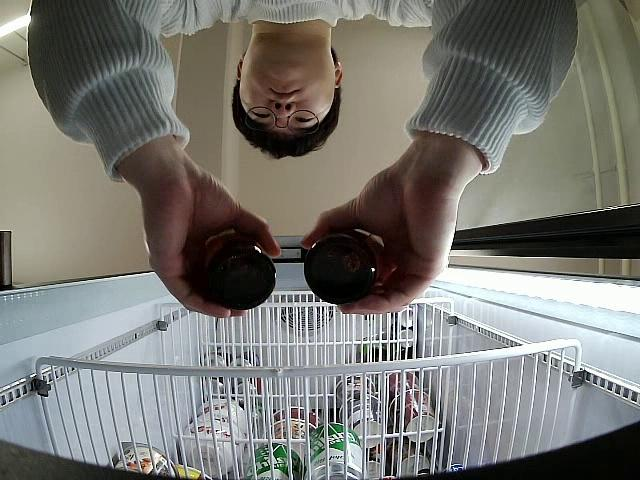00_hand: (300, 157, 460, 314), (137, 166, 281, 320)
17_vita500: (189, 227, 276, 311), (304, 226, 394, 304)
